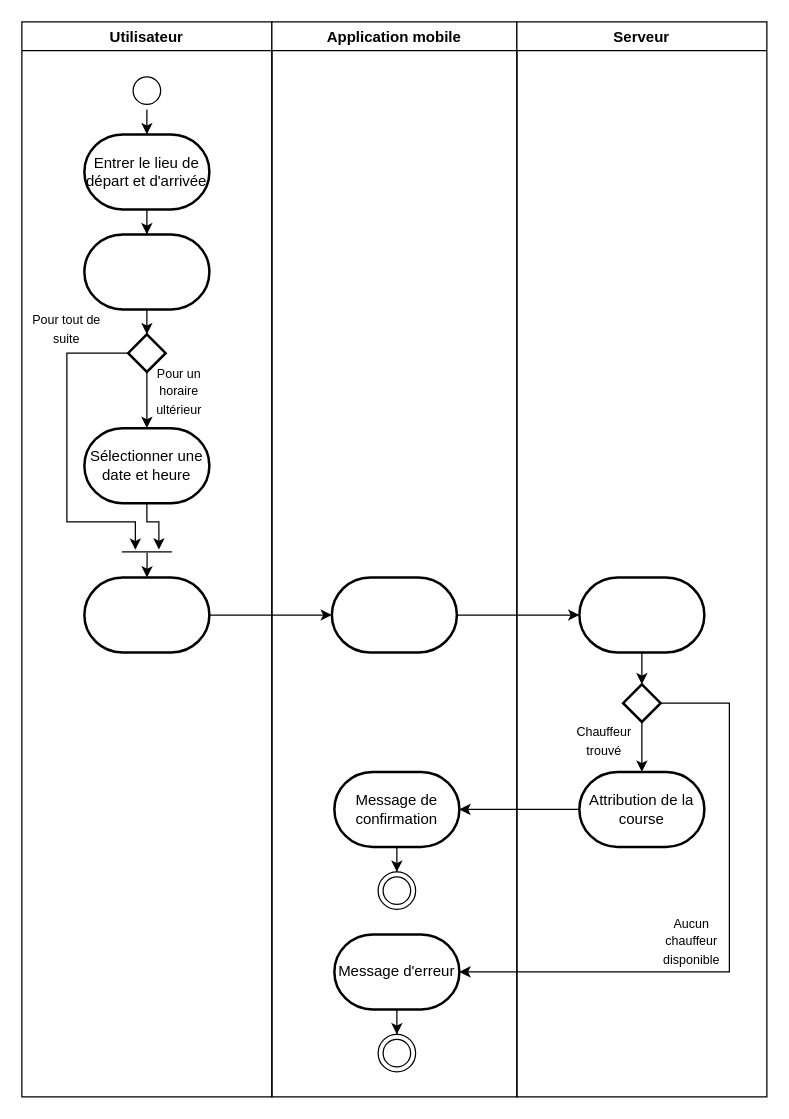
The diagram is 789 pixels wide and 1119 high, and some of its shapes have lost their labels. The shapes that lost their labels are listed below. From the top down, each one's box as (x1, y1, x2, y2) in pixels, then its label:
(82, 232, 210, 310): Sélectionner une offre
(82, 576, 210, 653): Confirmer la réservation
(330, 576, 458, 653): Transmission de la réservation
(578, 576, 705, 653): Recherche de chauffeur
